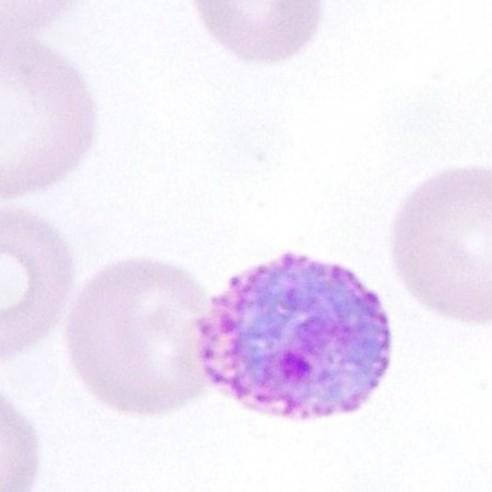Infected: (194, 250, 390, 423)
Uninfected: (61, 258, 210, 416)
